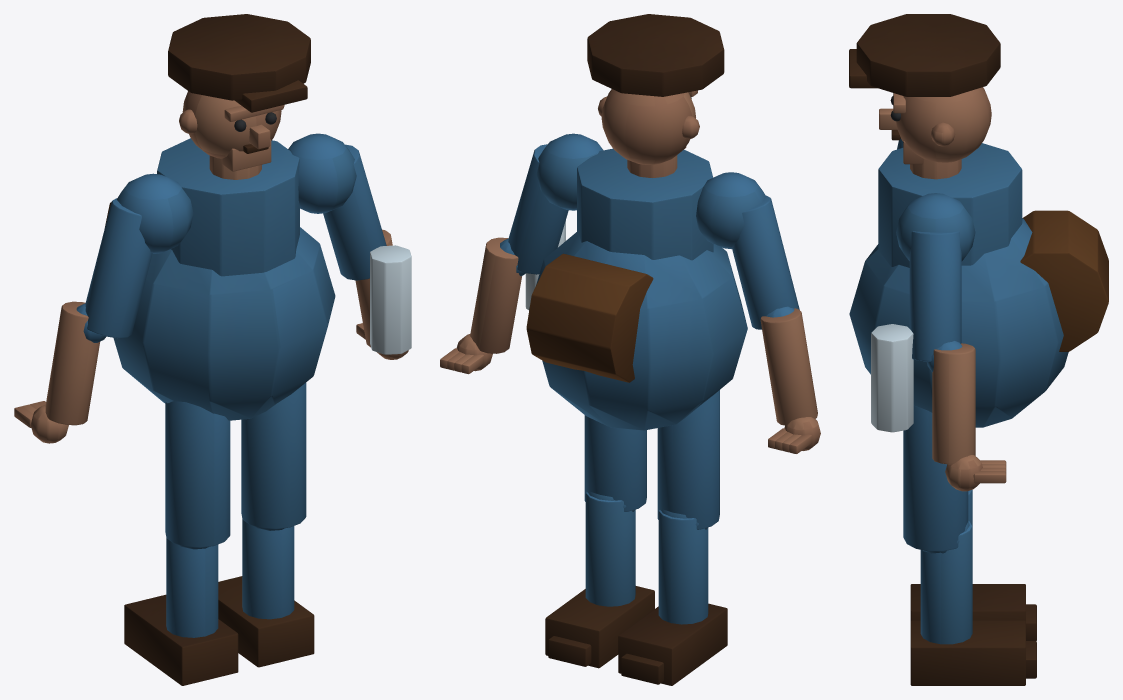
File: unit_freetown_drunk.fbx
The picture shows the model from 3 angles, left to right: view 1: azimuth 30°, elevation 25°; view 2: azimuth 150°, elevation 25°; view 3: azimuth 270°, elevation 25°; orthographic projection. The views are drawn at different scales.
Visible parts, largest first — view 1: unit_freetown_drunk; view 2: unit_freetown_drunk; view 3: unit_freetown_drunk.
Boxes of the visible parts, <box> form: unit_freetown_drunk: <box>14,14,411,685</box>; unit_freetown_drunk: <box>440,14,820,685</box>; unit_freetown_drunk: <box>849,14,1108,685</box>.
Bounding box in the file's own units: 1.18 × 1.87 × 0.7192.
